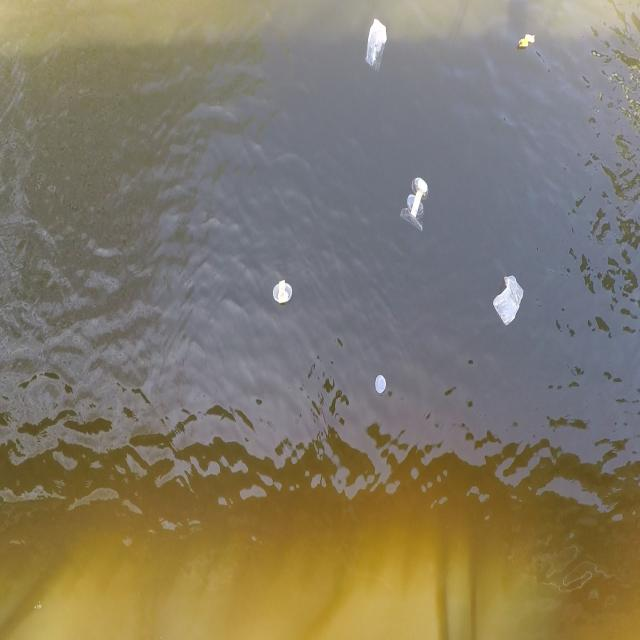Autre plastique: (400, 173, 434, 239), (270, 275, 294, 307), (373, 372, 388, 399)
Sac plastique: (491, 271, 528, 331), (364, 17, 391, 77)
